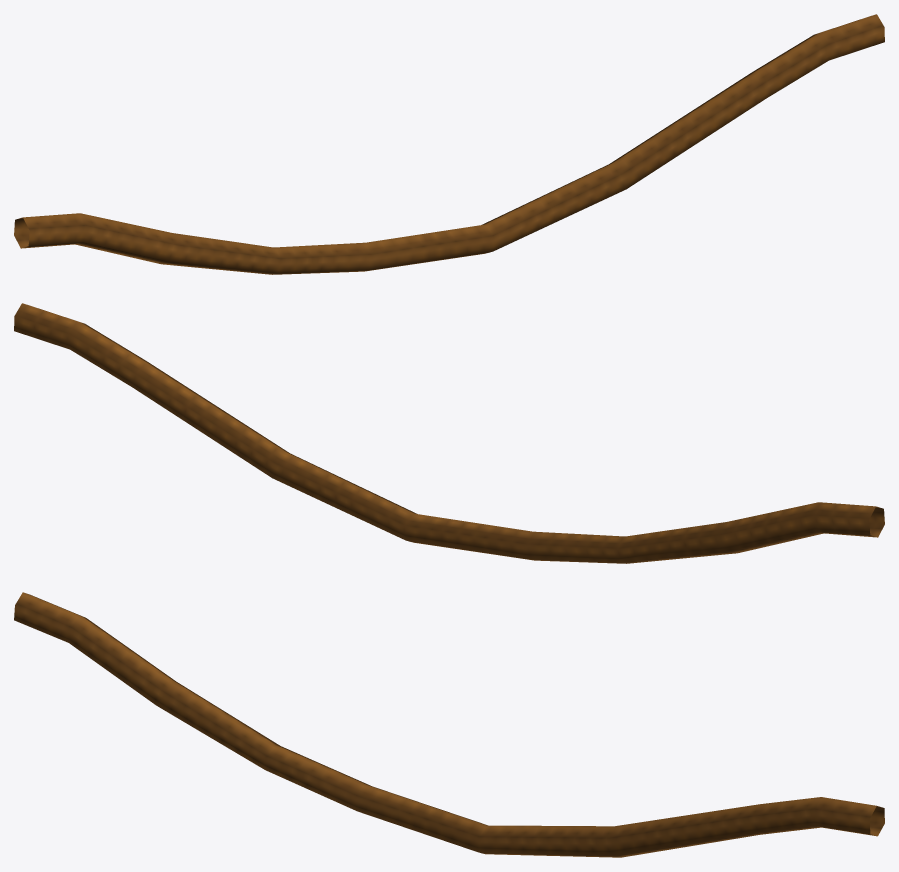
File: Corde_2.fbx
3 views of the same model, one above another, from view 1: azimuth 30°, elevation 25°; view 2: azimuth 150°, elevation 25°; view 3: azimuth 330°, elevation 25° (orthographic).
Visible parts, largest first — view 1: Corde_2; view 2: Corde_2; view 3: Corde_2.
Part boxes in pixels (box(x1,y1,x2,y2)): Corde_2: box(14, 14, 884, 274); Corde_2: box(14, 303, 884, 563); Corde_2: box(14, 592, 884, 857).
Bounding box in the file's own units: 197 × 32.76 × 5.85.
